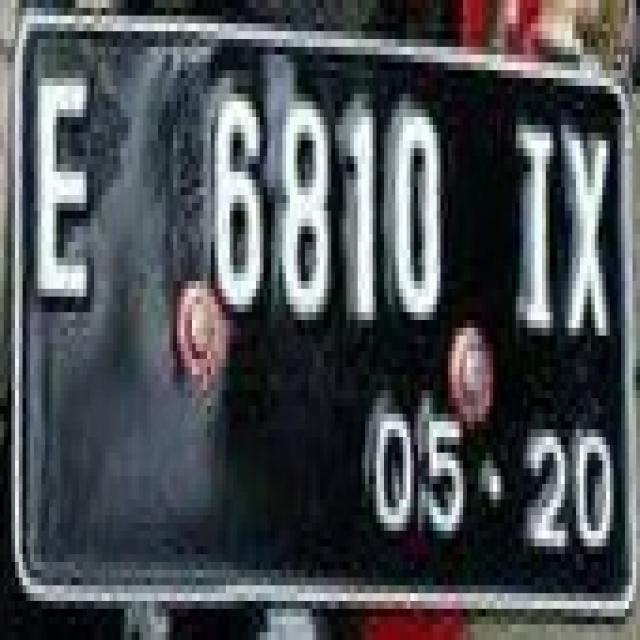plate: (11, 0, 636, 609)
